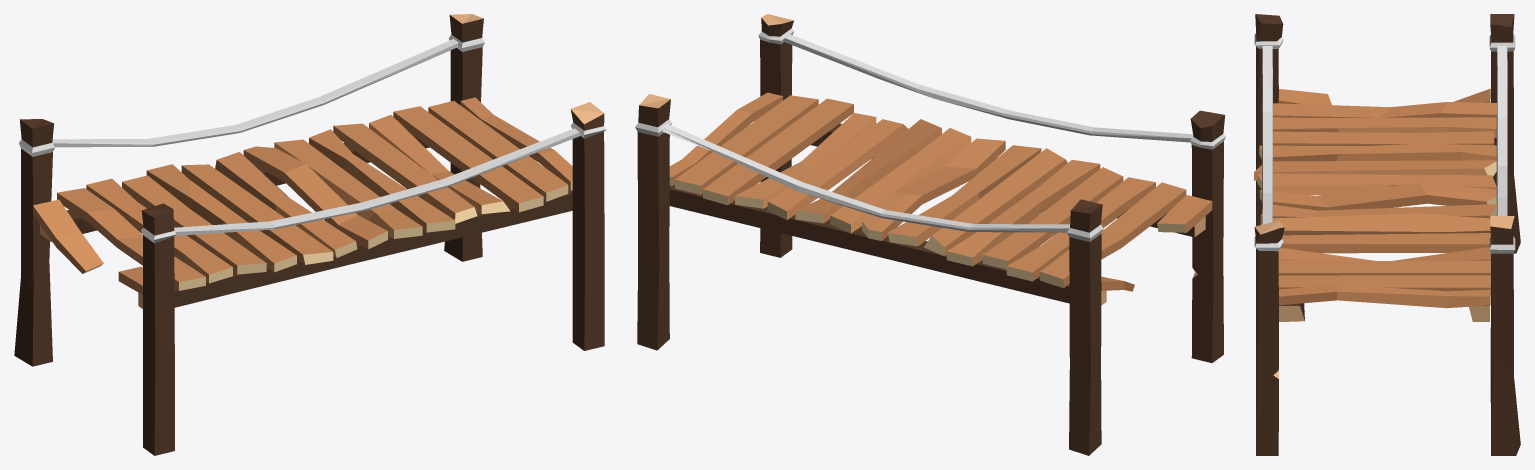
Rendered from middle_pier.glb.
The picture shows the model from 3 angles, left to right: view 1: azimuth 30°, elevation 25°; view 2: azimuth 150°, elevation 25°; view 3: azimuth 270°, elevation 25°; orthographic projection. The views are drawn at different scales.
Parts seen in each view (by area): view 1: pier_2; view 2: pier_2; view 3: pier_2.
Part boxes in pixels (x1,y1,x2,y2): pier_2: [14, 14, 606, 455]; pier_2: [635, 14, 1225, 455]; pier_2: [1254, 14, 1520, 455].
Size of the model in its own units: 13.84 by 6.98 by 7.29.
Materials: 1 (1 with a texture image).
